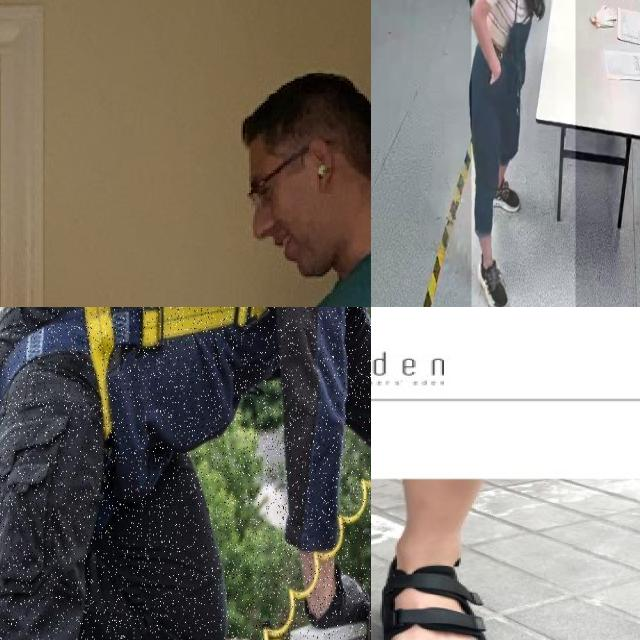Sandals: (377, 552, 491, 640)
hand_noglove: (486, 62, 502, 95)
person: (471, 0, 576, 307)
shoes: (471, 238, 514, 307), (485, 170, 525, 217)
